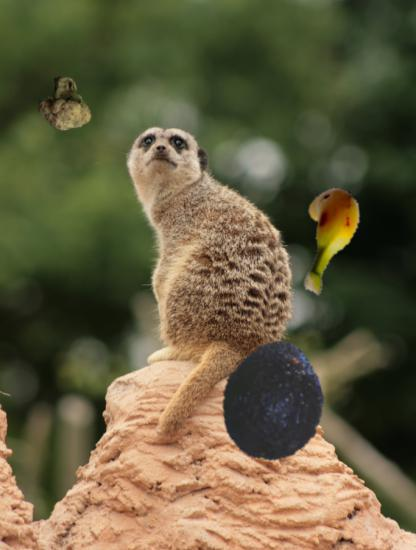Avocado: (208, 338, 331, 461)
Banana: (272, 186, 377, 291)
Cauliflower: (35, 75, 92, 132)
